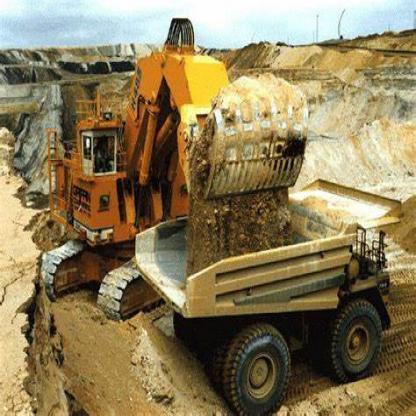dump_truck: (127, 207, 403, 415)
excavator: (28, 16, 301, 319)
